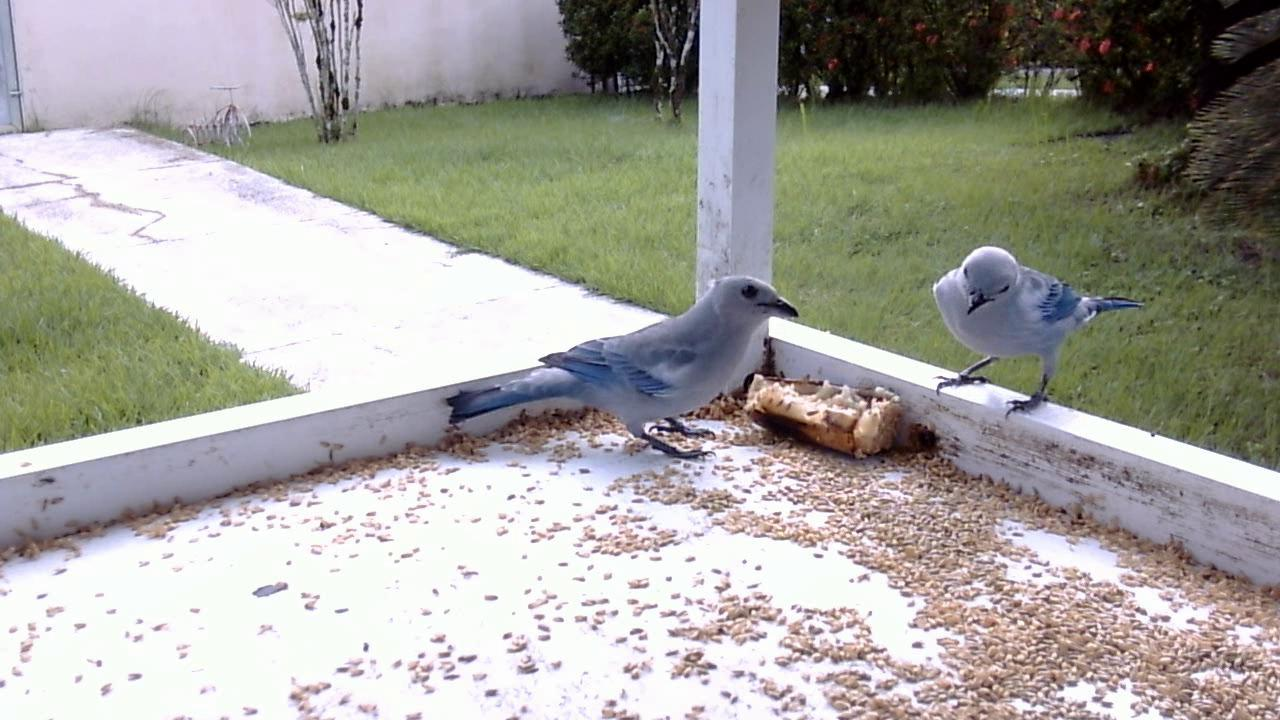sanhaco_da_amazonia: (449, 275, 797, 466), (922, 241, 1149, 423)
